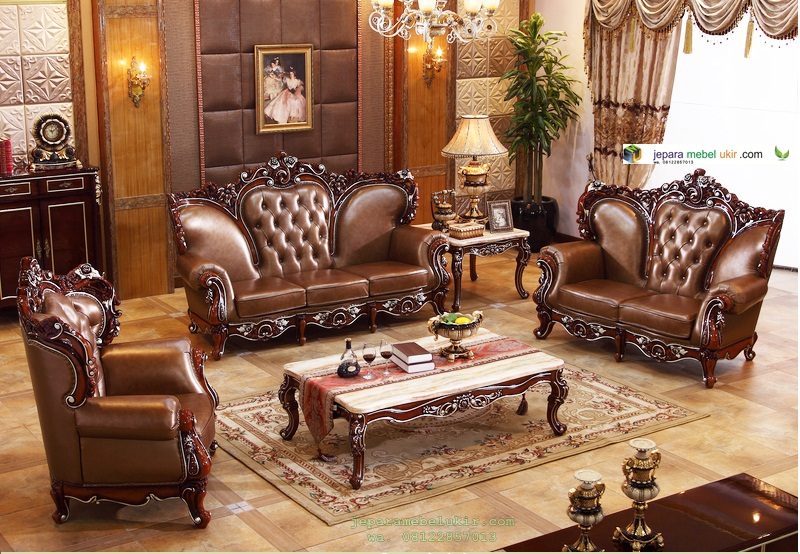Carving Chair: (18, 258, 219, 525), (170, 154, 452, 325), (545, 179, 772, 370)
Carving Table: (278, 313, 573, 476)
